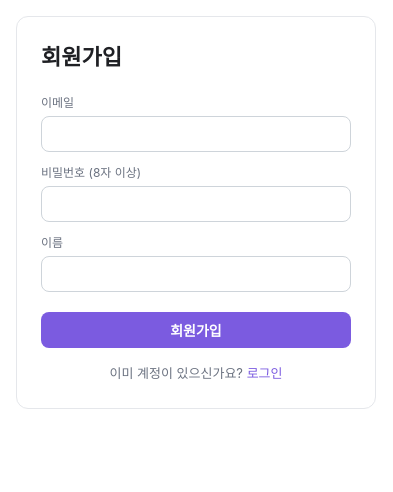
RegisterPage › 빈 폼 제출 → 3개 검증 에러
The image size is (393, 492).
Step 1. Click the button "회원가입" → x=196, y=330, box [41,312,351,348]
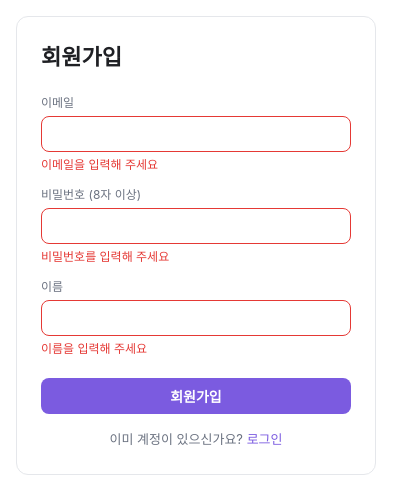
Check: the text "이메일을 입력해 주세요" is shown, box [41,157,158,172]
Check: the text "비밀번호를 입력해 주세요" is shown, box [41,249,169,264]
Check: the text "이름을 입력해 주세요" is shown, box [41,341,147,356]
